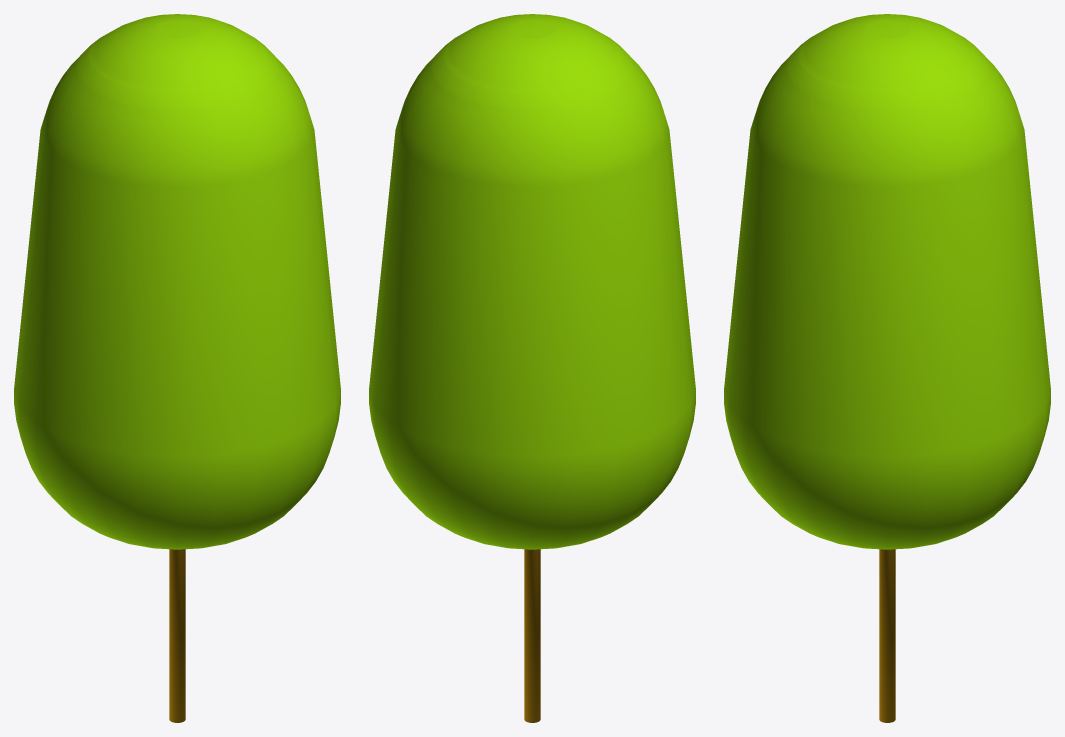
The model's file is HPS7m.glb.
3 views of the same model, side by side, from view 1: azimuth 30°, elevation 25°; view 2: azimuth 150°, elevation 25°; view 3: azimuth 270°, elevation 25° (orthographic).
Visible parts, largest first — view 1: HPS7m; view 2: HPS7m; view 3: HPS7m.
Boxes of the visible parts, <box> form: HPS7m: <box>14,14,340,722</box>; HPS7m: <box>369,14,695,722</box>; HPS7m: <box>724,14,1050,722</box>.
Bounding box in the file's own units: 3 × 7 × 3.
